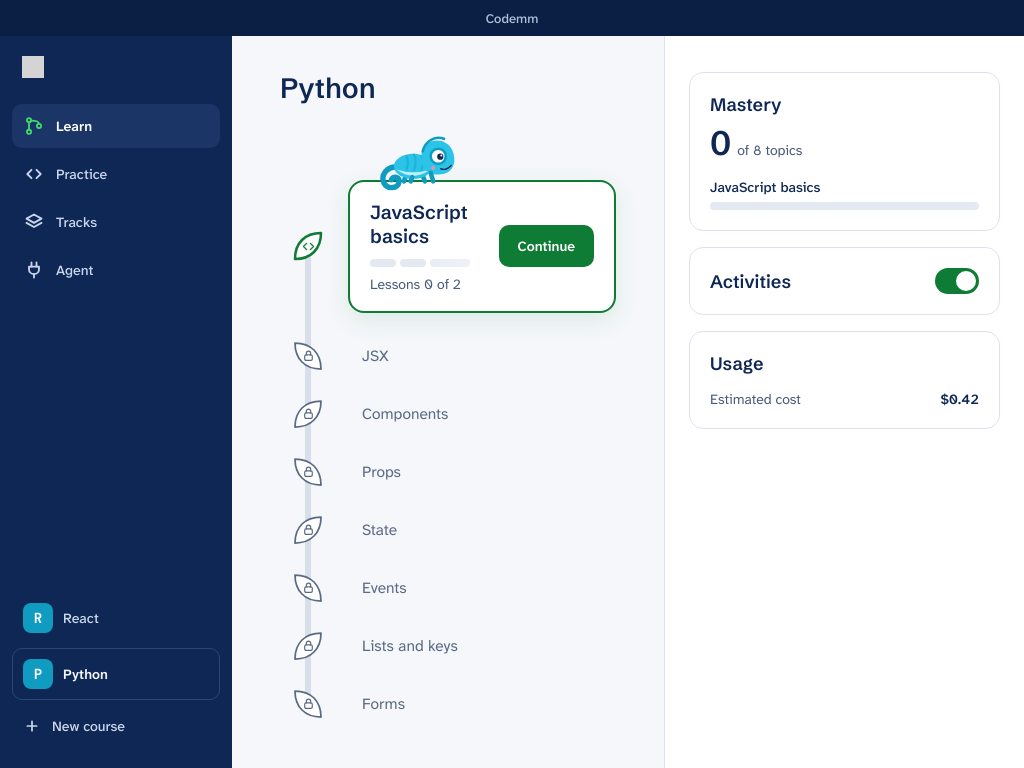
courses (§4.13) › lists the courses at the foot, the one on screen marked, and opens another
The width and height of the screenshot is (1024, 768).
Expected: the heading "Python" is shown, [280,71,376,105]
Click the button "R React".
click(116, 618)  # box [12,592,220,644]
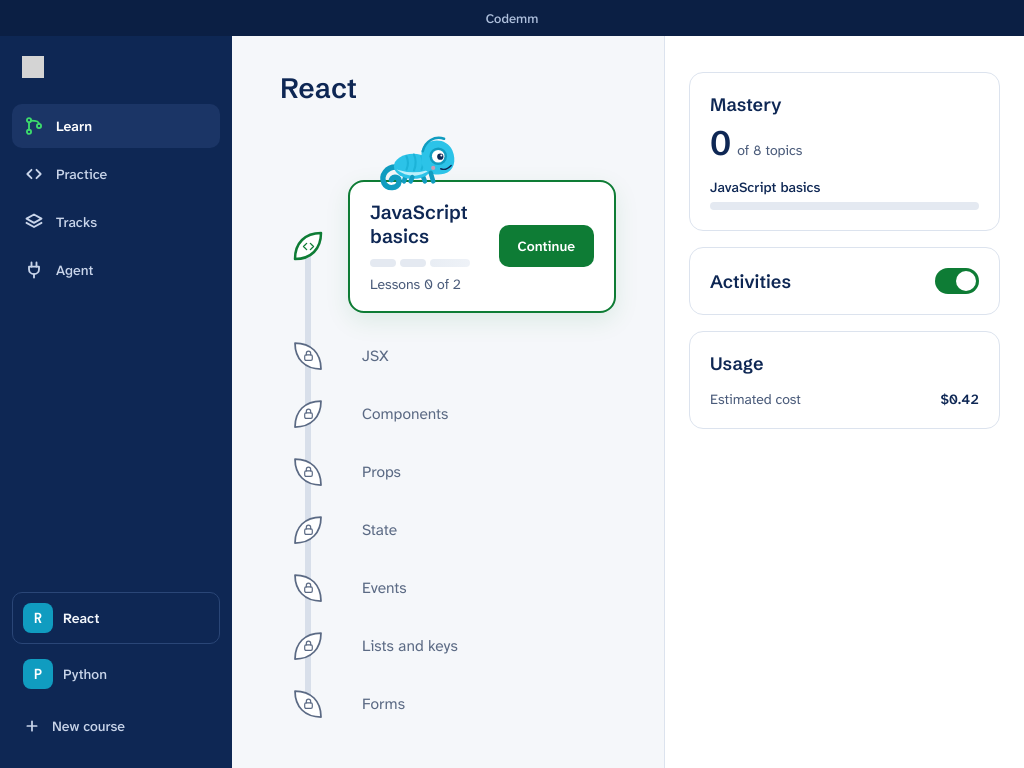
Expected: the heading "React" is shown, [280,71,357,105]
